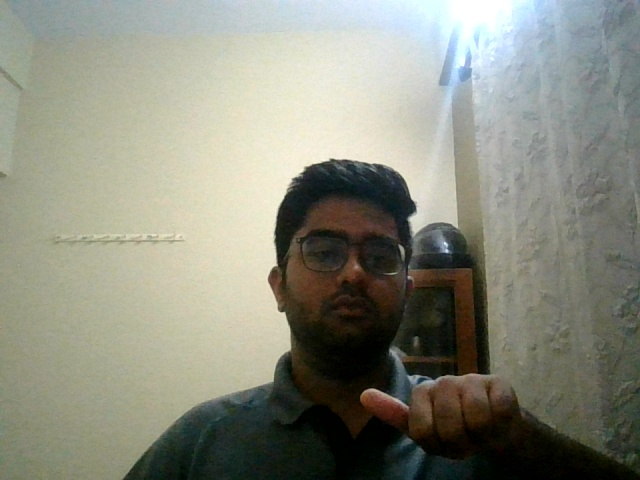Yes: (344, 361, 552, 480)
